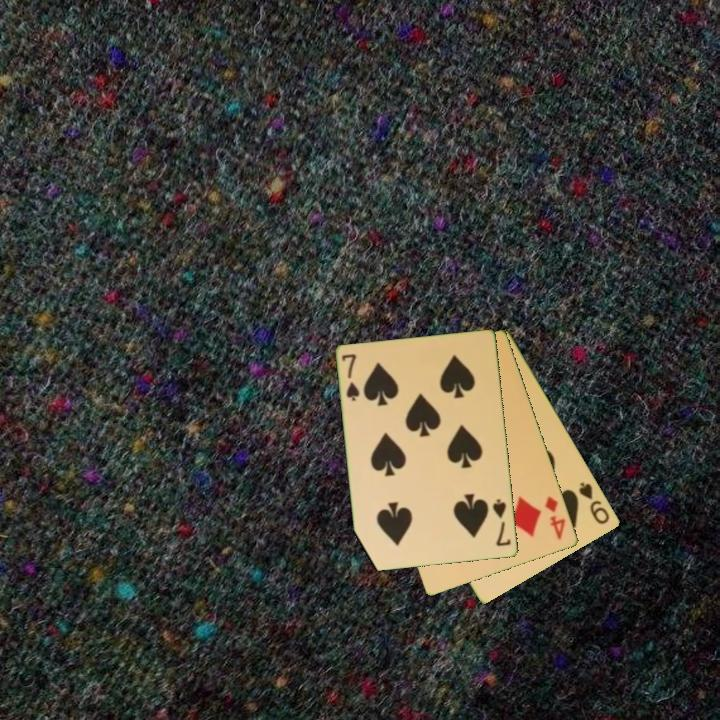4d: (542, 492, 569, 543)
7s: (490, 495, 514, 549), (339, 350, 363, 404)
9s: (575, 478, 613, 527)
